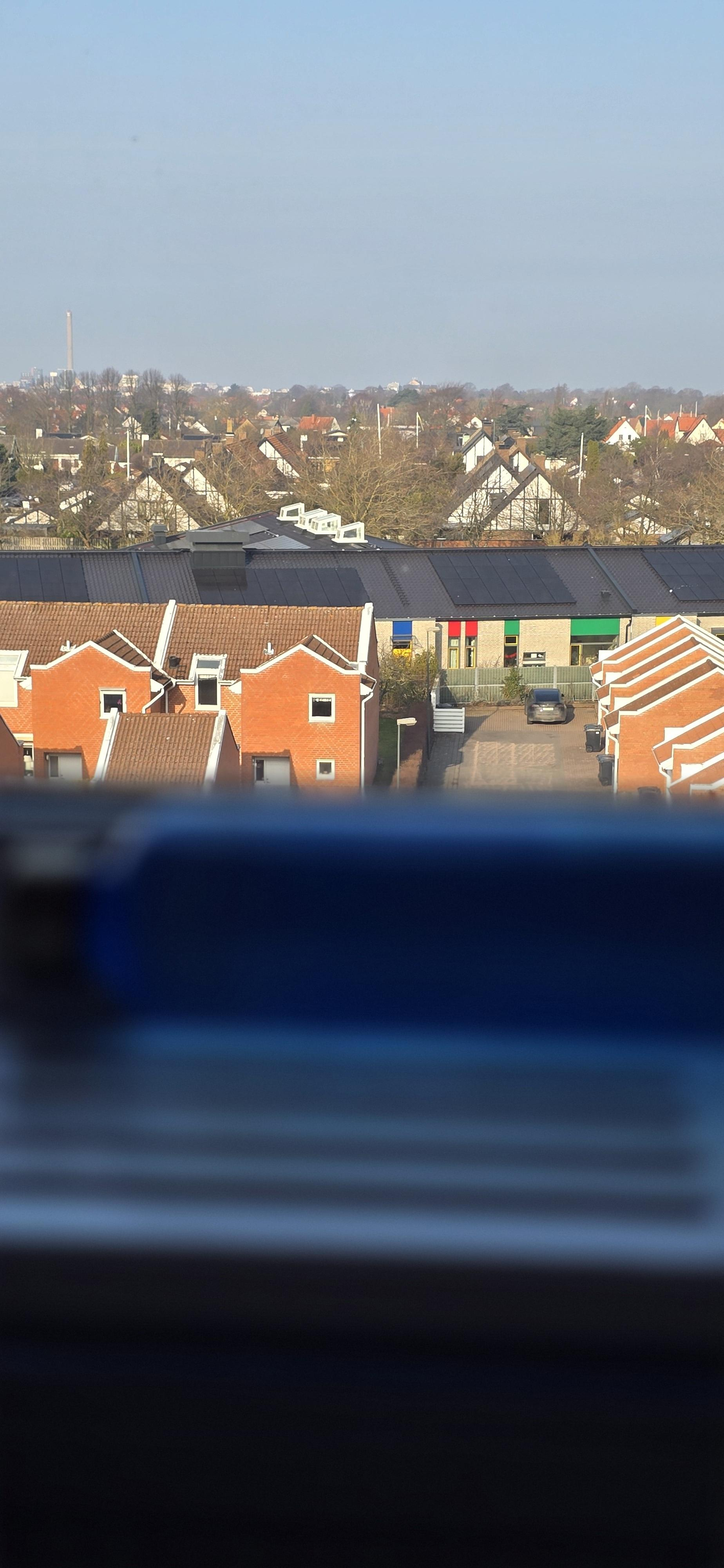bottle: (12, 785, 724, 1113)
